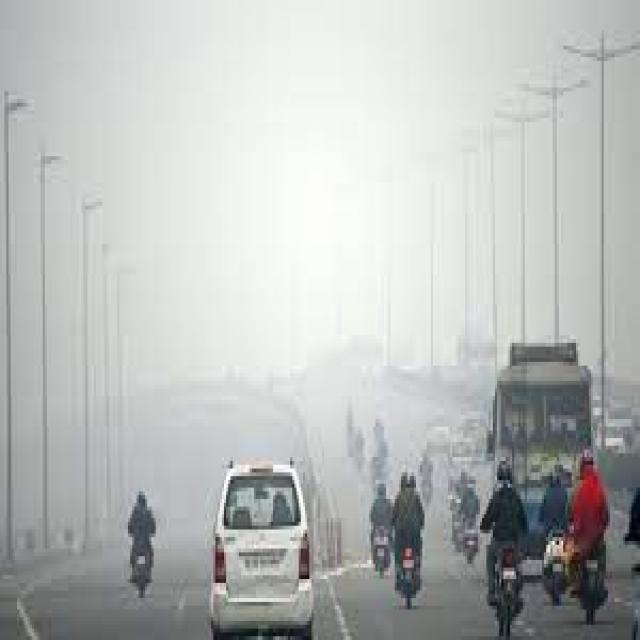moderate_traffic: (301, 293, 640, 640)
